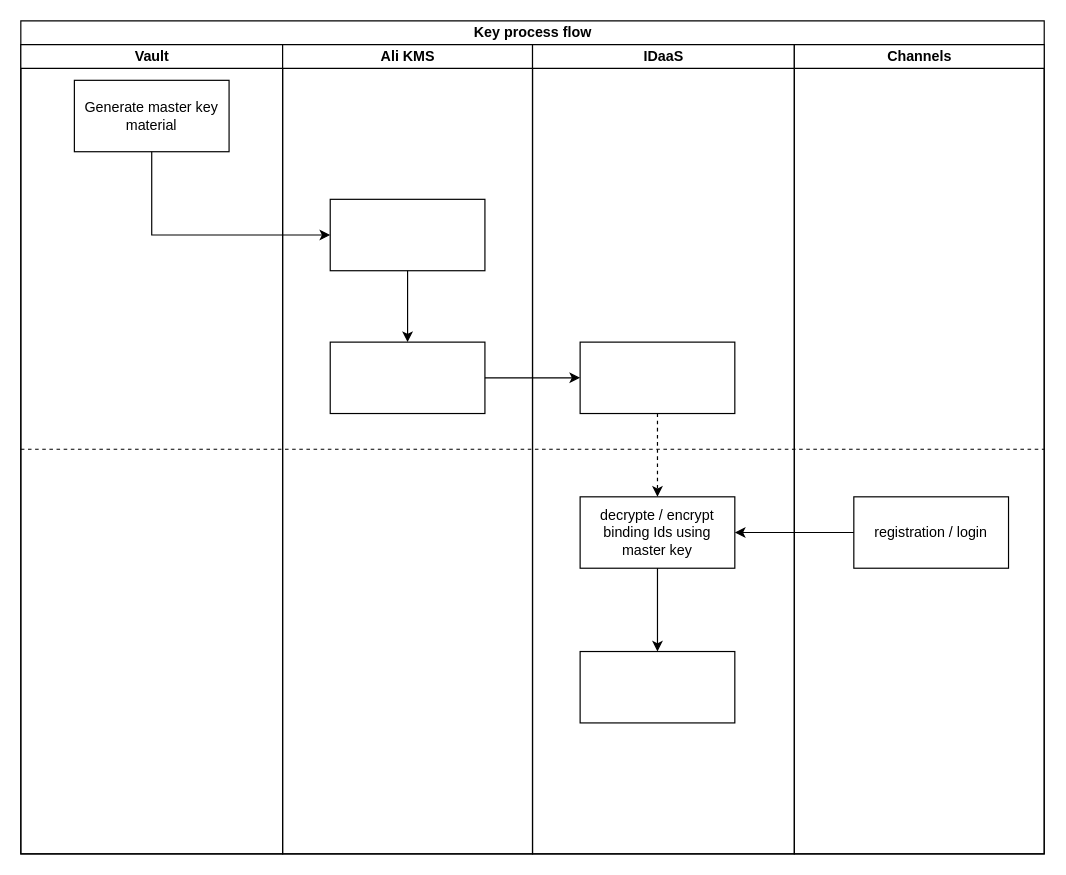
Image size: 1066x875. Some labels were removed from this diagram. Each missing label, with the centre of its shape:
encrypted ids in DB: [657,686]
generate master Key: [407,377]
import master key: [657,377]
verify master material: [407,234]
